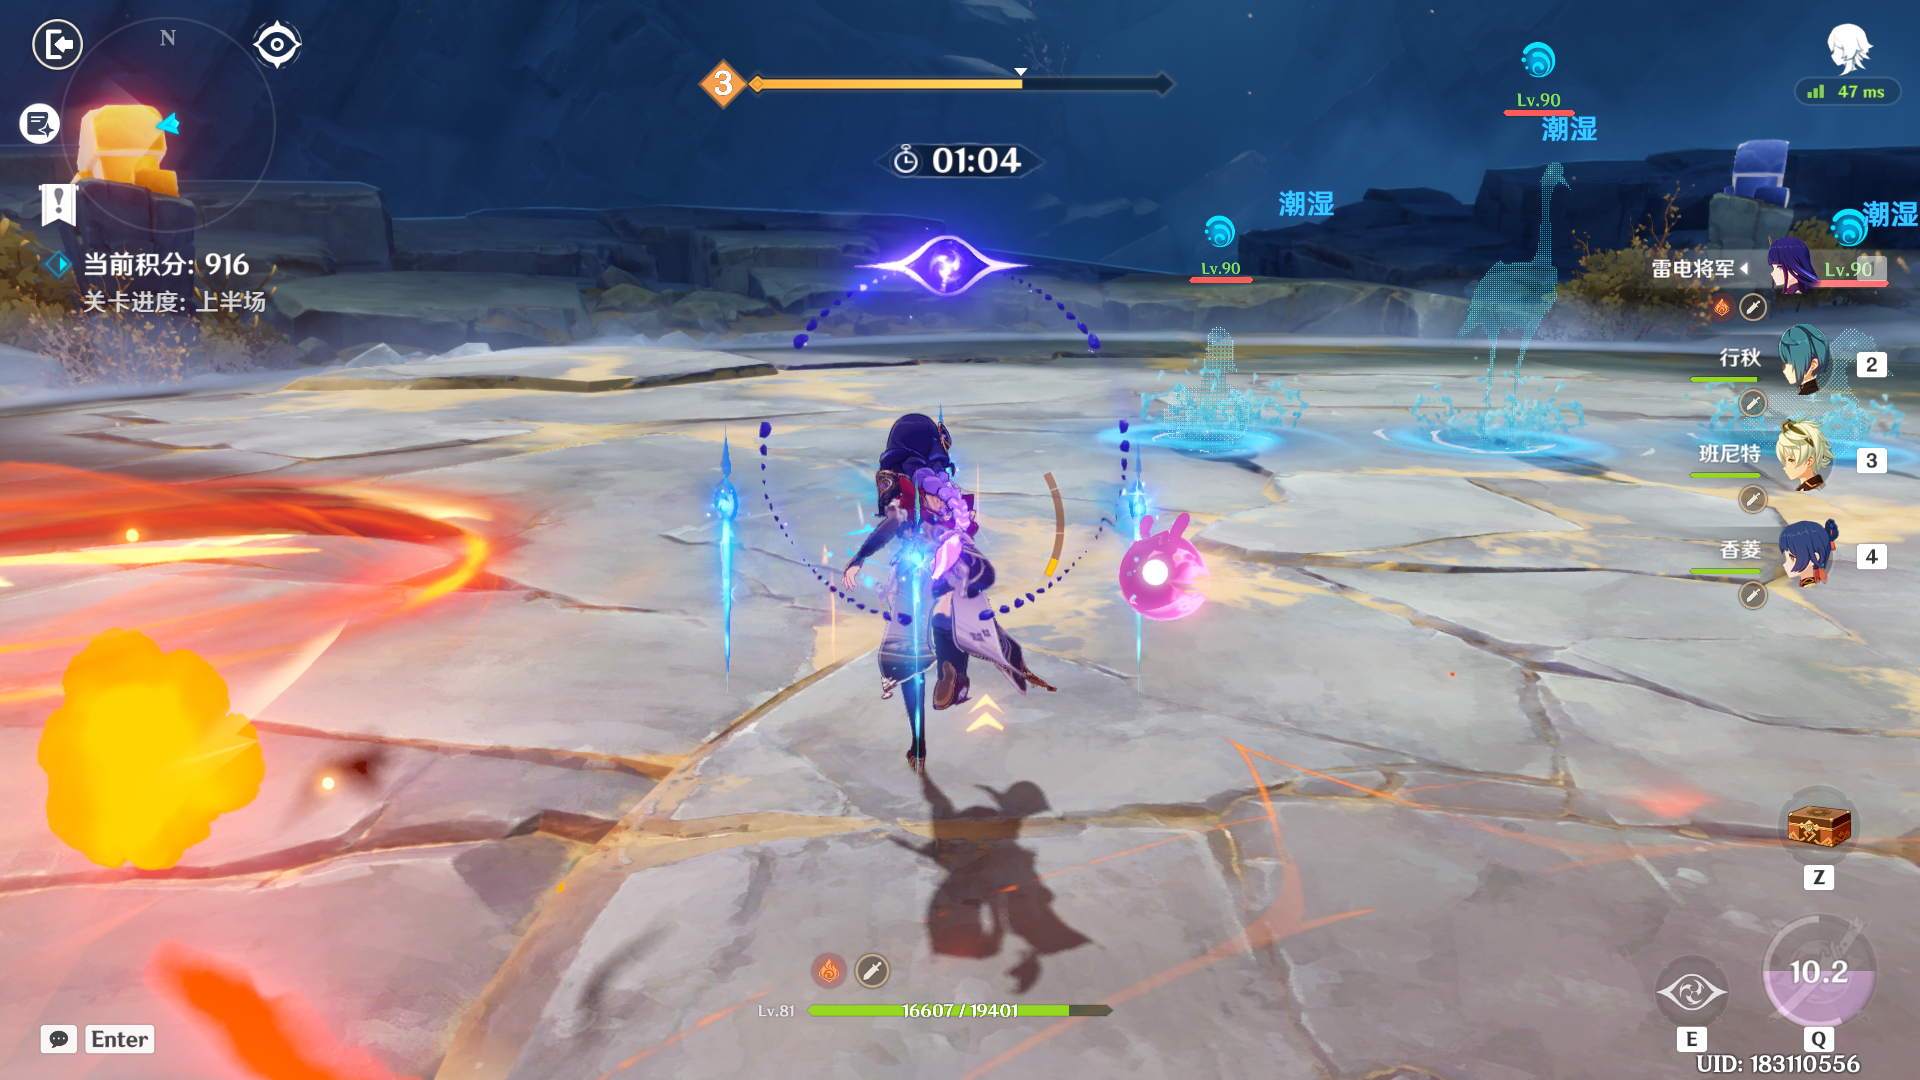character: (816, 386, 1076, 833)
